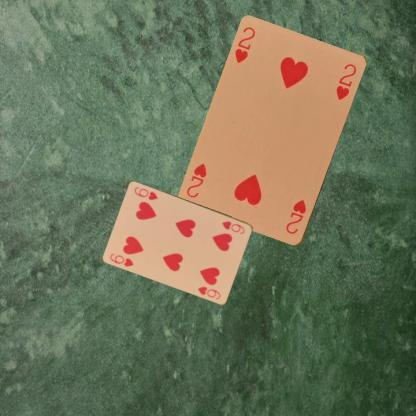2h: (232, 25, 257, 66), (283, 198, 308, 235)
6h: (108, 250, 136, 268), (219, 218, 247, 235)
